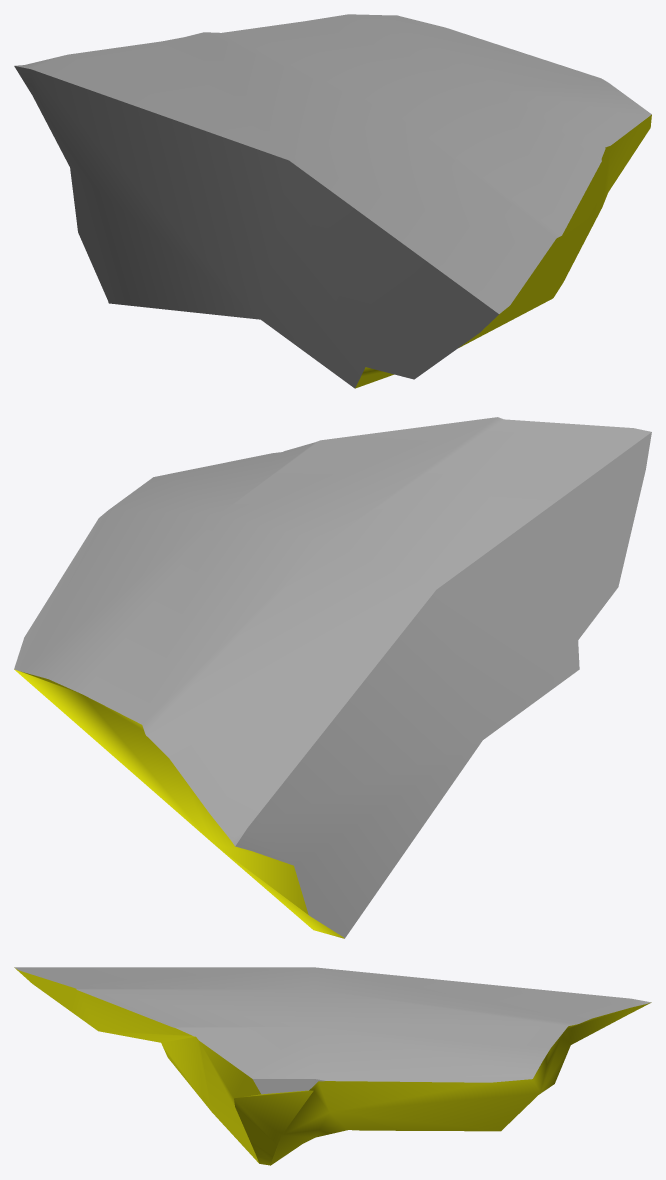
File: Bridge5.fbx
3 views of the same model, one above another, from view 1: azimuth 30°, elevation 25°; view 2: azimuth 150°, elevation 25°; view 3: azimuth 270°, elevation 25° (orthographic). The views are drawn at different scales.
Visible parts, largest first — view 1: shard4; view 2: shard4; view 3: shard4.
Part boxes in pixels (x1,y1,x2,y2): shard4: (14, 14, 651, 388); shard4: (14, 417, 651, 938); shard4: (14, 967, 651, 1165).
Bounding box in the file's own units: 94.07 × 61.9 × 196.
